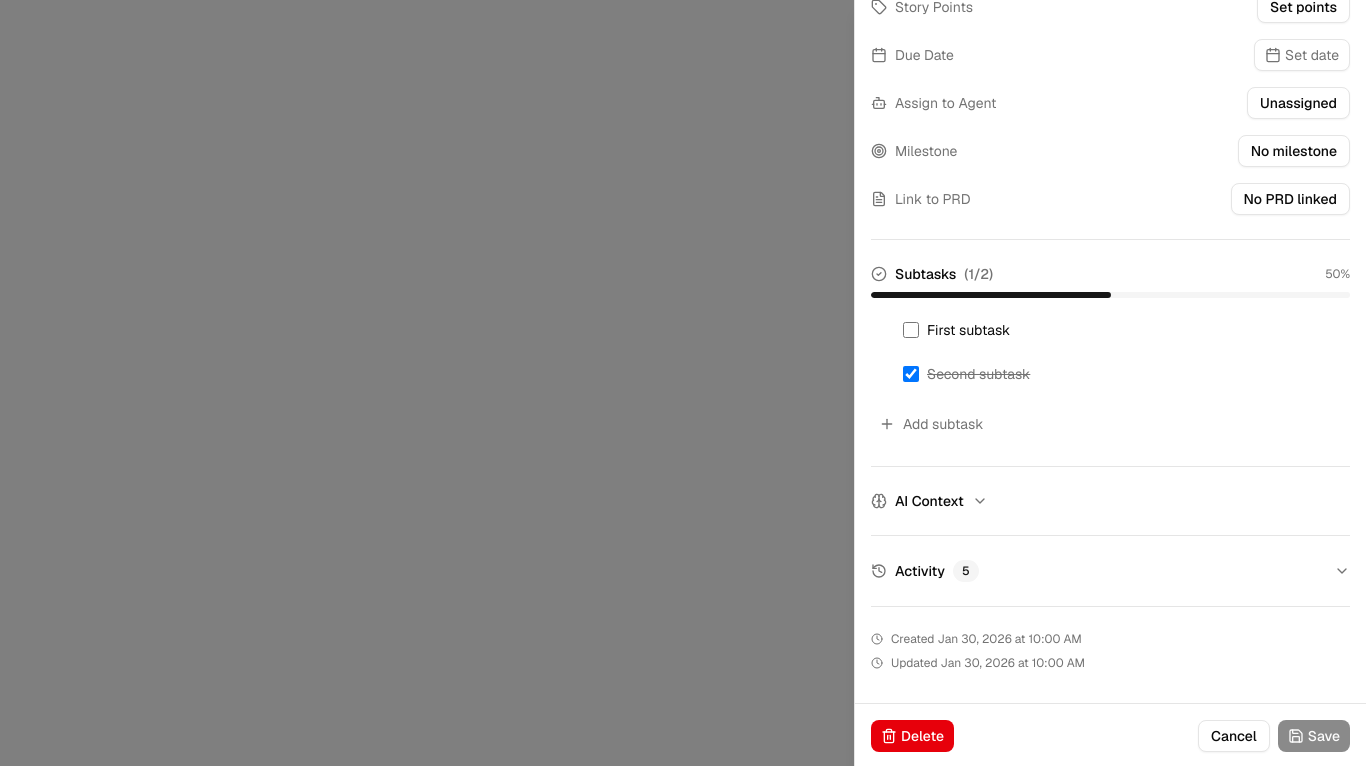
Test: 2.5 Task Detail Panel › 2.5.5 AI context section exists › Displays existing AI context
(page scrolled)
// Expand section
Click the button "AI Context": coordinates (929, 501) [871, 491, 988, 511]
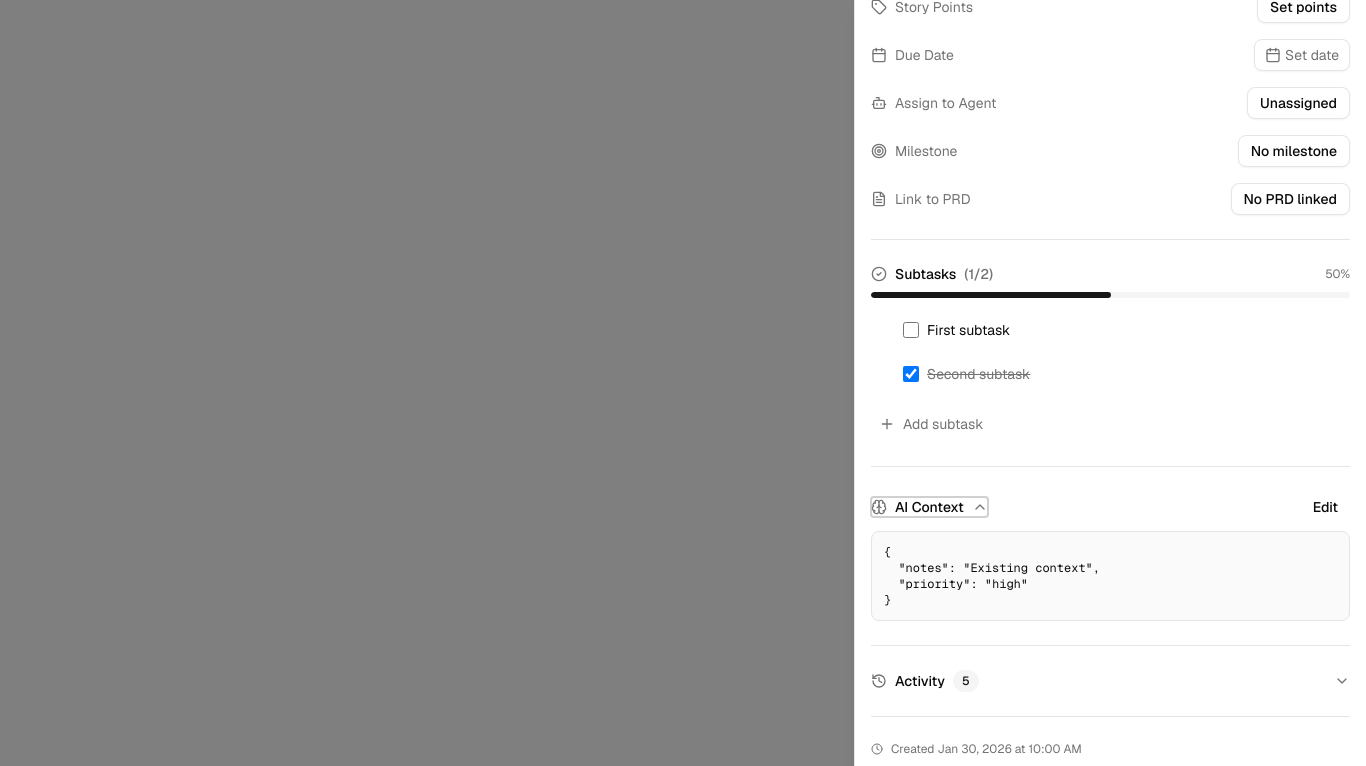
Result: the text "{ \"notes\": \"Existing context\", \"priority\": \"high\" }" is shown at [884, 544, 1100, 608]
